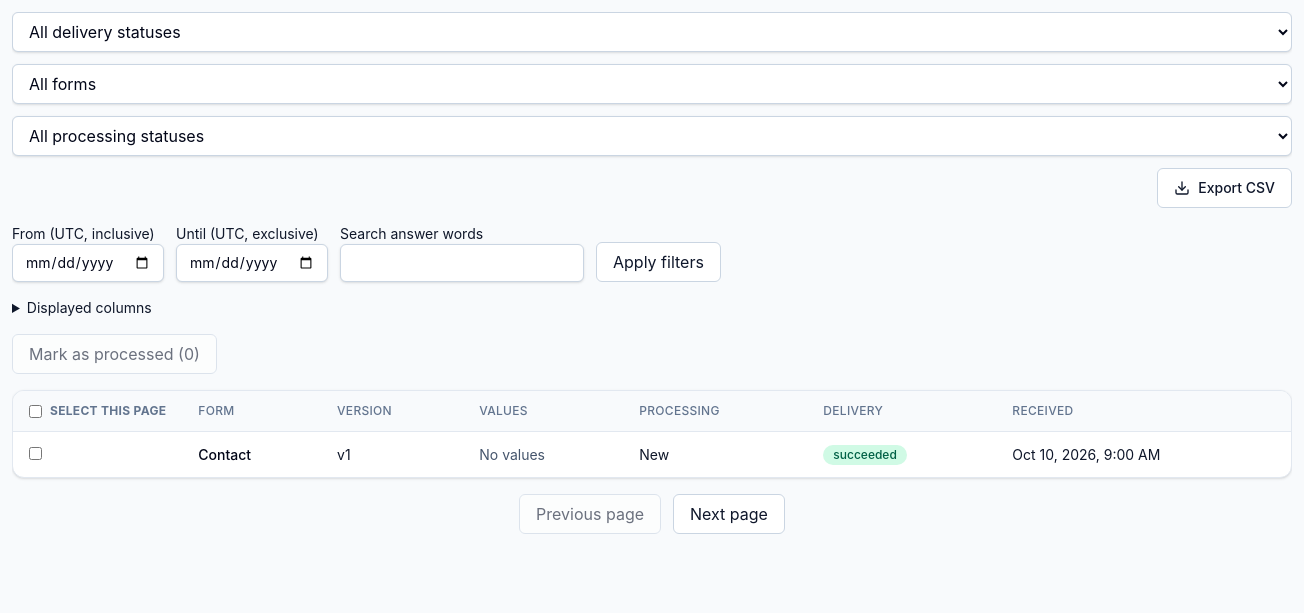
Test: SubmissionsTable › keeps the selection cleared when a response returns to the current page
Click the checkbox named "Select response selected".
click(36, 453)  # box [29,446,42,460]
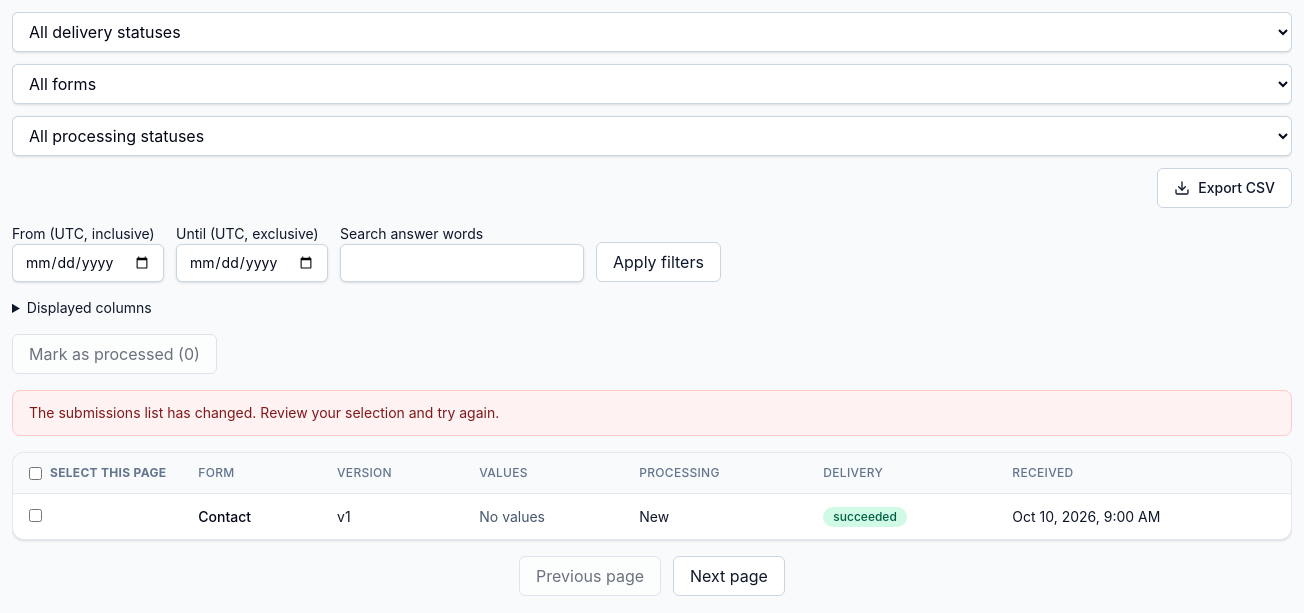
Expected: the checkbox named "Select response selected" is not checked, [29,508,42,522]
Result: the message shows "Review your selection" at [29,404,499,421]
